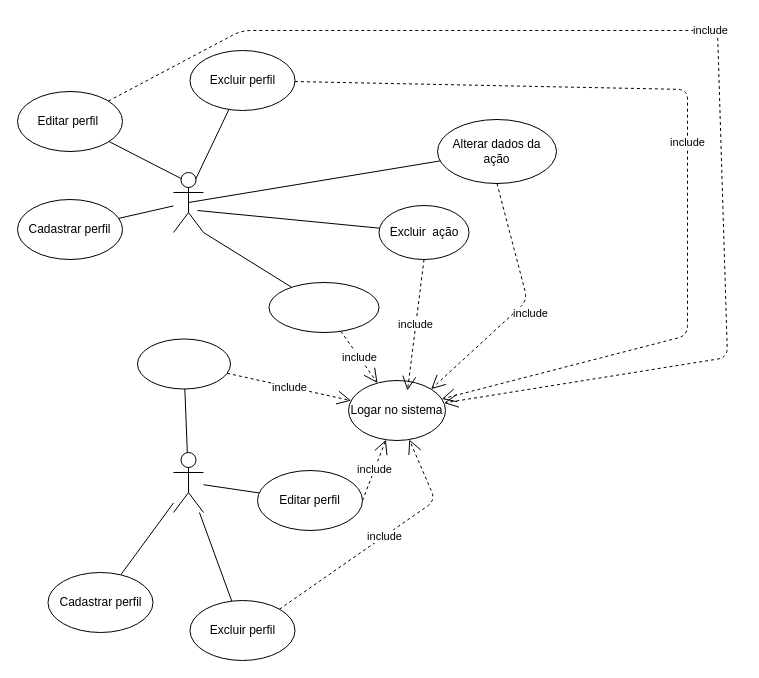
Some shapes in this 759 by 678 pixel diagram are drawn without their labels. Each missing label, with the centre of its shape:
"Cadastrar ação" belongs at point 323,307.
"Inscrever em ação" belongs at point 183,363.
"Promotor de Ação" belongs at point 188,202.
"Voluntário" belongs at point 188,482.
